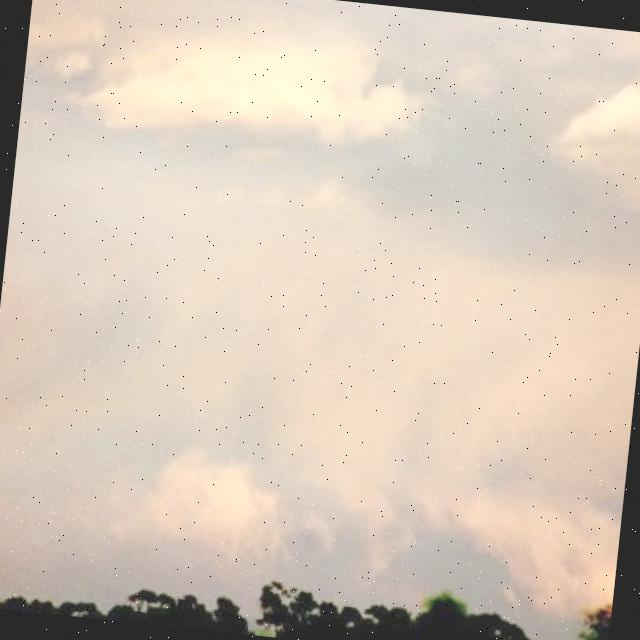Ns: (1, 1, 640, 547)
